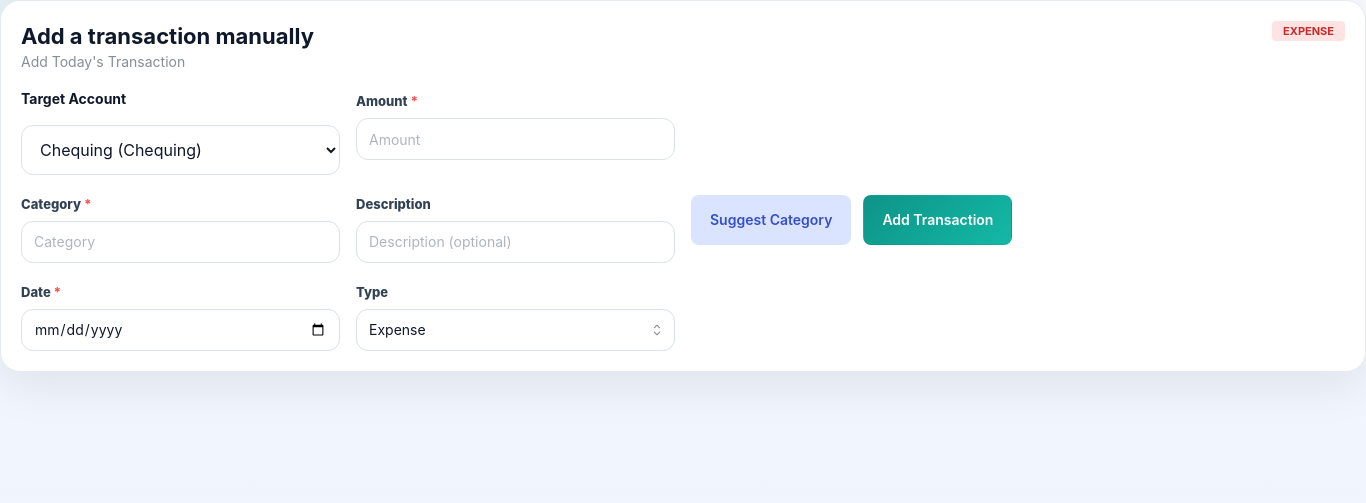
Test case: TransactionForm account resolution › confirms the save and leaves the global account scope alone
Step 1. Type "1200" into the number field with placeholder "Amount" → (516, 139), box [356,118,675,160]
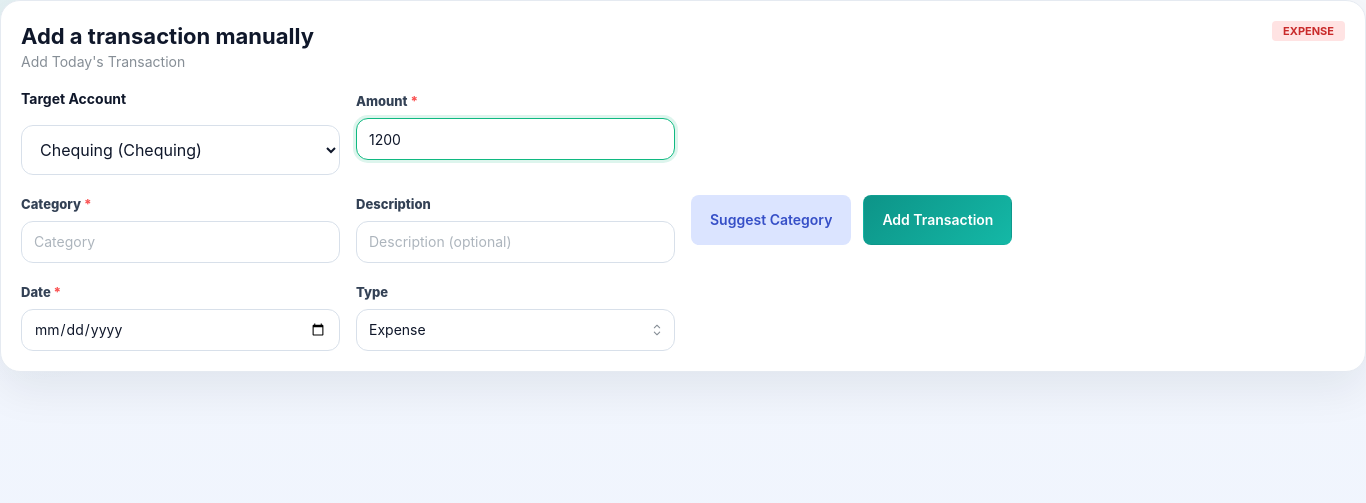
Step 2. Type "salary" into the dropdown with placeholder "Category" → (180, 242), box [21,221,340,263]
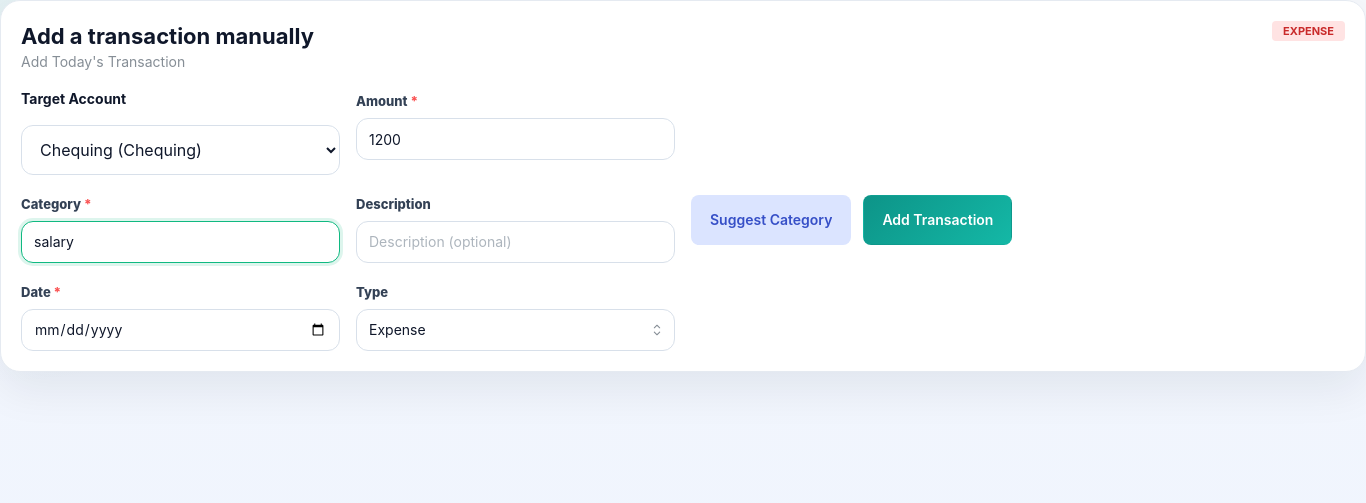
Step 3. Type "2026-06-15" into the date field labelled "Date *" → (180, 330), box [21,309,340,351]
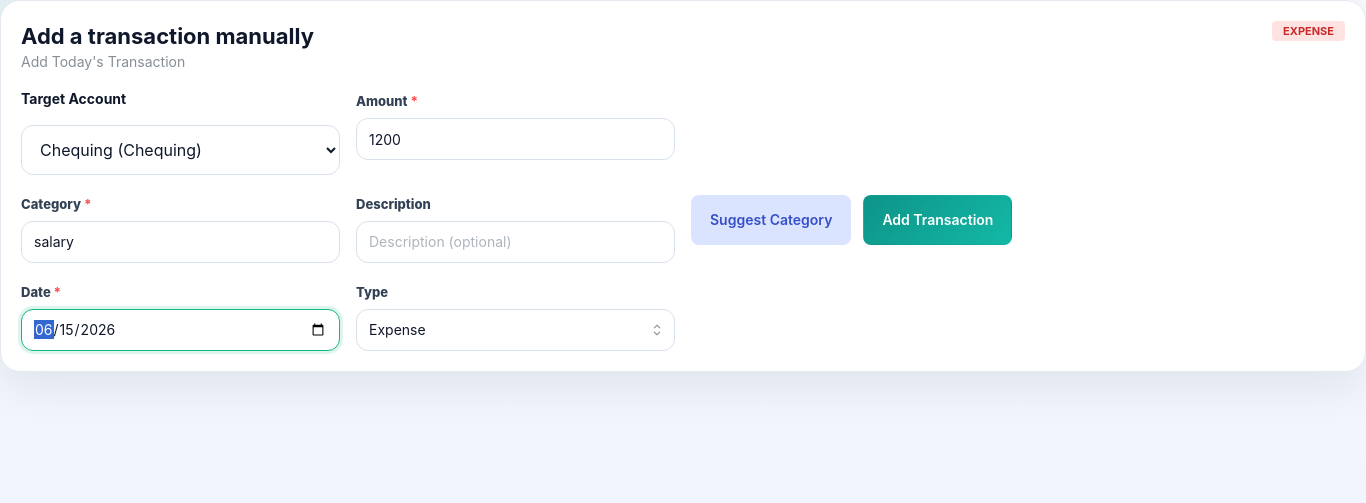
Step 4. Select "Income" in the dropdown labelled "Type" → (516, 330), box [356,309,675,351]
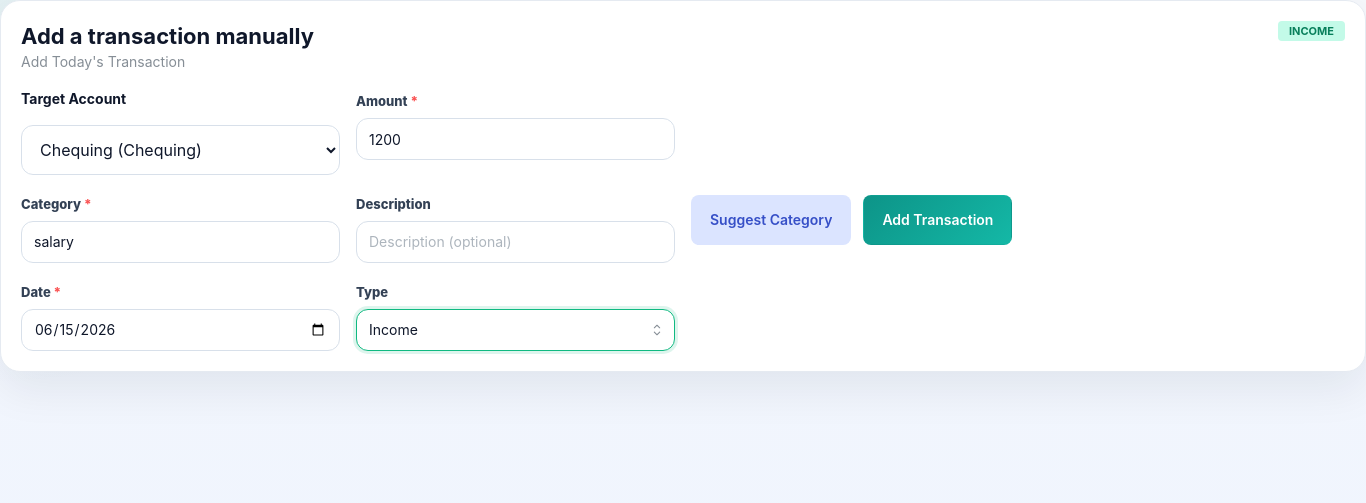
Step 5. Click the button "Add Transaction" → (938, 220), box [863,195,1012,245]
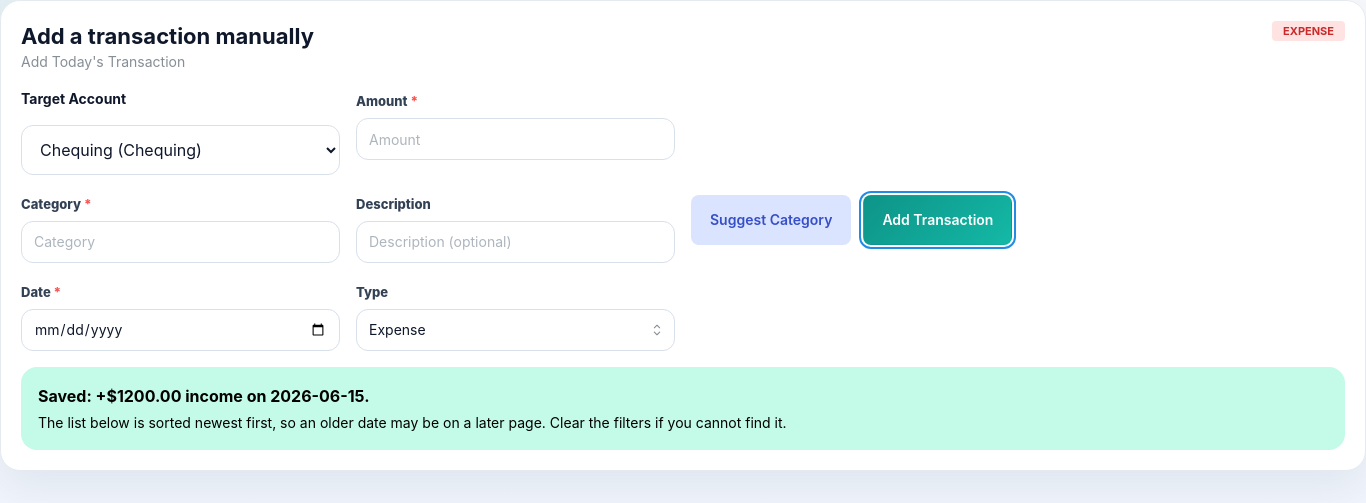
Expected: the text "Saved: +$1200.00 income on 2026-06-15." is shown, [38,386,370,406]
